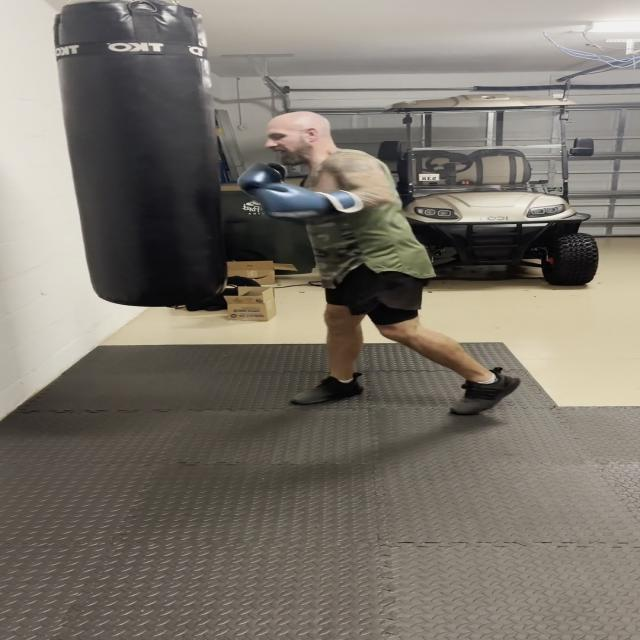bag: (61, 0, 217, 311)
hook: (203, 105, 410, 242)
